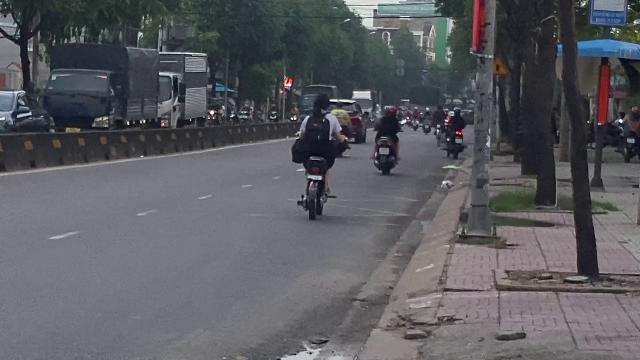motorcyclist: (290, 89, 346, 218)
nohelmet: (310, 92, 330, 112)
